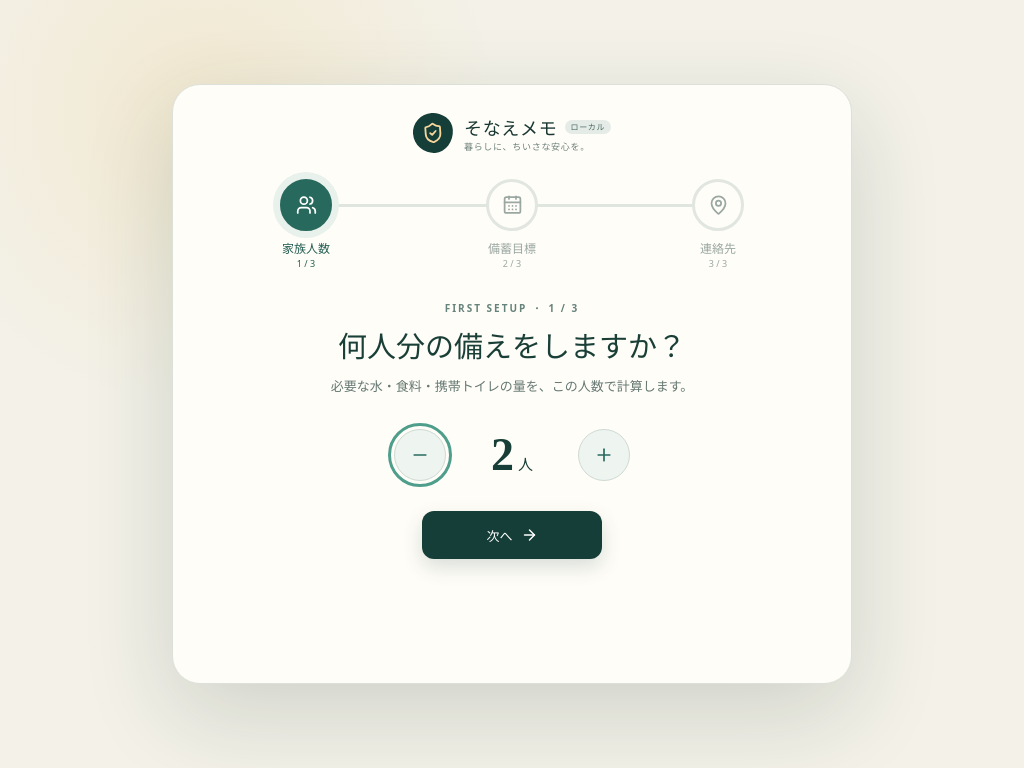
Test: 電力設計ページの導線 › 初回は3ステップで家族人数、備蓄目標、連絡先を設定する
Check: the dialog named "何人分の備えをしますか？" is shown, box x1=172 y1=84 x2=852 y2=684
Check: the list named "初期設定 3ステップ中1ステップ目" is shown, box x1=280 y1=179 x2=744 y2=270
Click the button named "家族人数を1人増やす" at (604, 455), box x1=578 y1=429 x2=630 y2=481
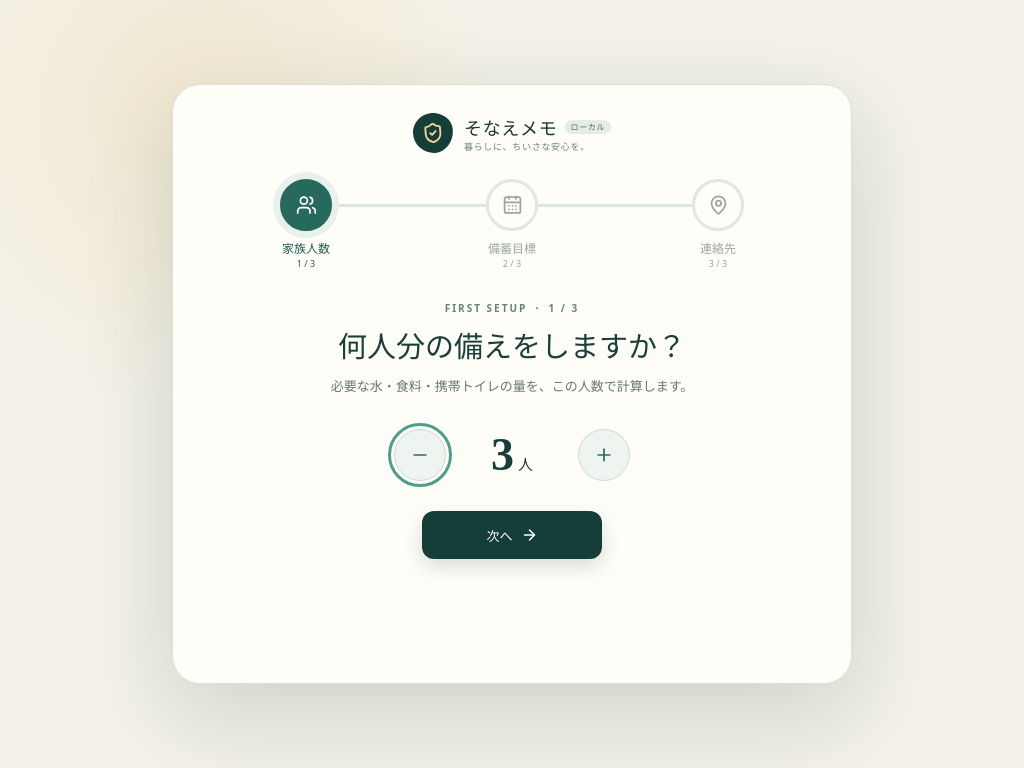
Click the button "次へ" at (512, 535), box x1=422 y1=511 x2=602 y2=559
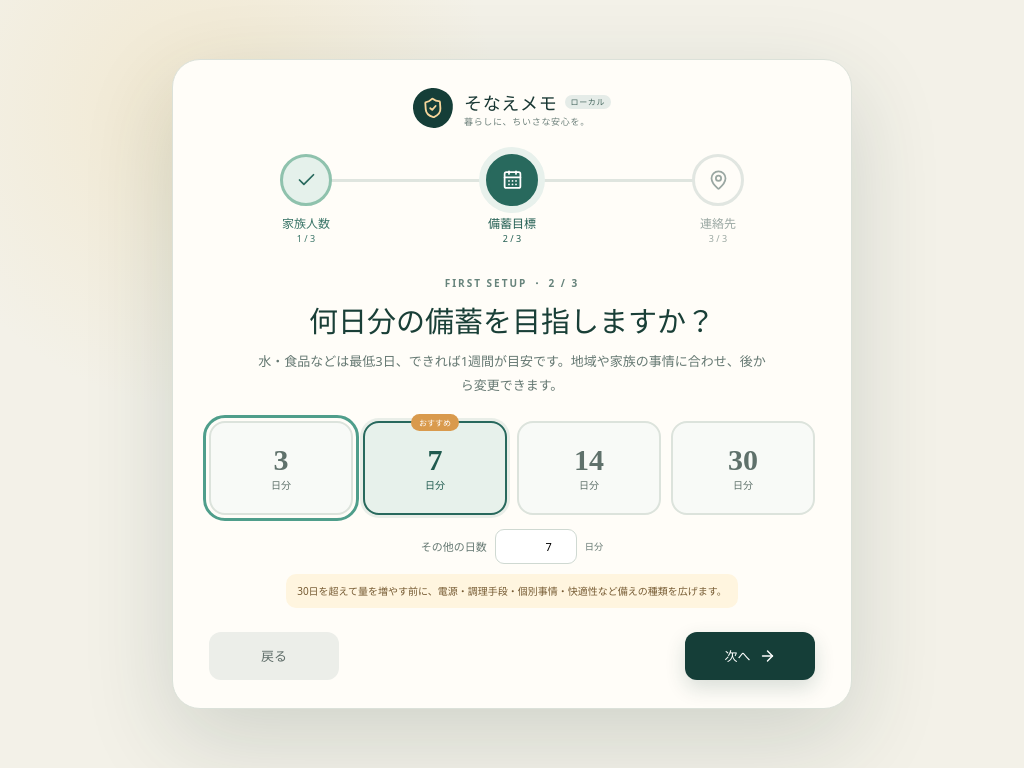
Check: the heading "何日分の備蓄を目指しますか？" is shown, box x1=309 y1=298 x2=715 y2=340
Click the button named "14日分" at (589, 468), box x1=517 y1=421 x2=661 y2=515
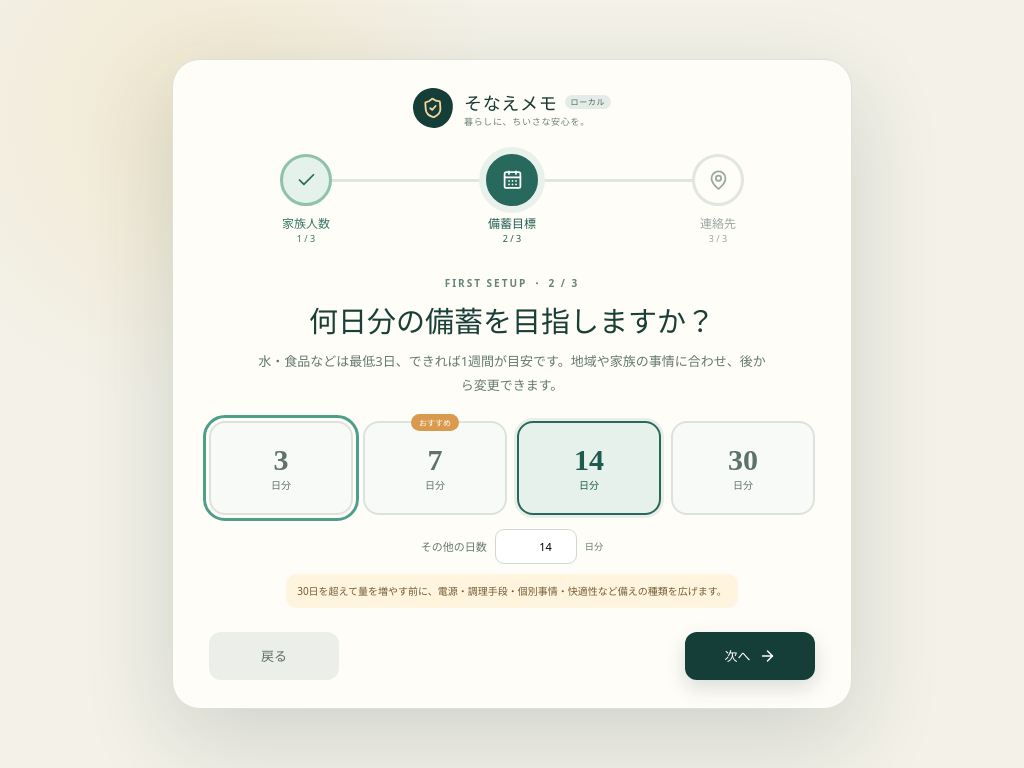
Click the button "次へ" at (750, 656), box x1=685 y1=632 x2=815 y2=680
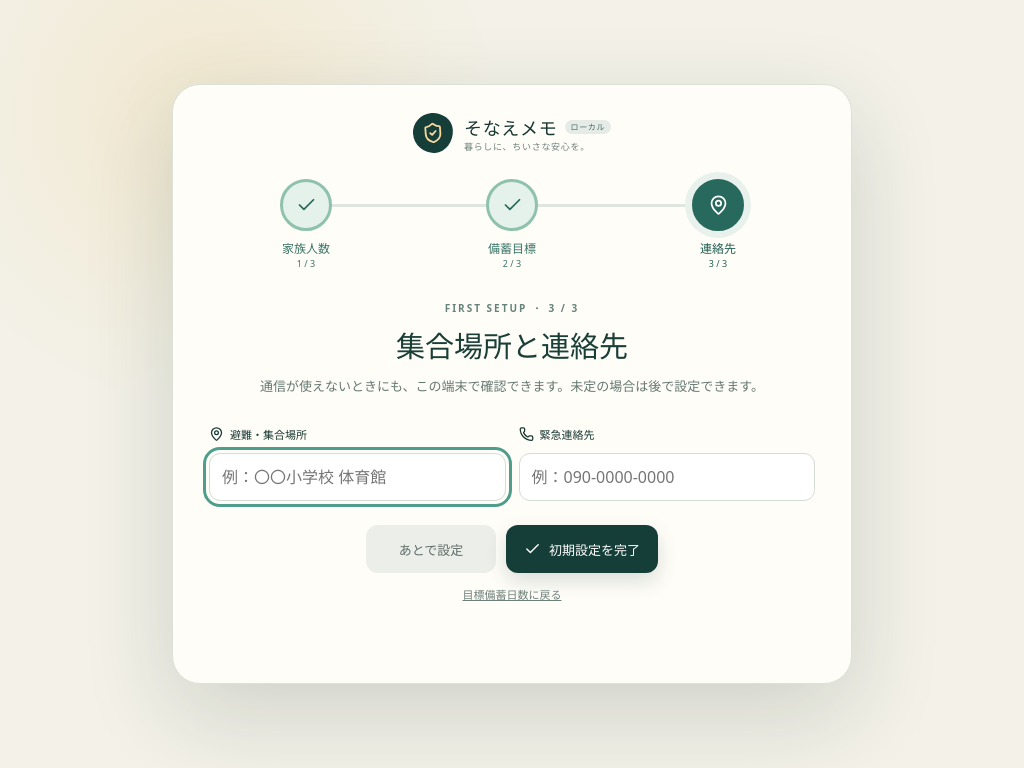
Check: the heading "集合場所と連絡先" is shown, box x1=396 y1=323 x2=628 y2=365
Click the button "あとで設定" at (431, 549), box x1=366 y1=525 x2=496 y2=573
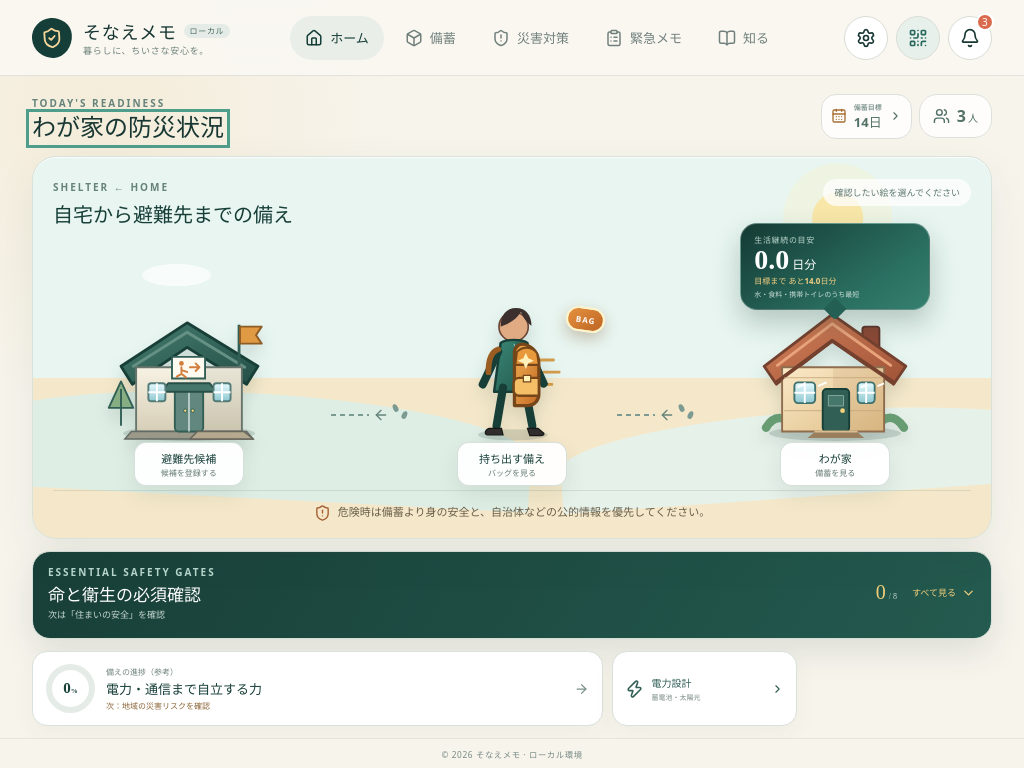
Check: the dialog is gone
Check: the element named "家族3人" is shown, box x1=919 y1=94 x2=992 y2=138
Check: the button "備蓄目標 14日" is shown, box x1=821 y1=94 x2=912 y2=139
